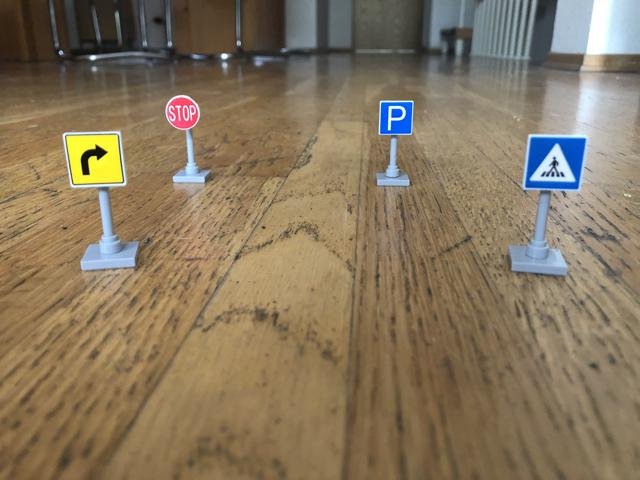fahrtrichtung rechts: (64, 131, 129, 188)
fußgängerüberweg: (516, 131, 590, 195)
parken: (376, 97, 416, 140)
stop: (164, 94, 203, 132)
